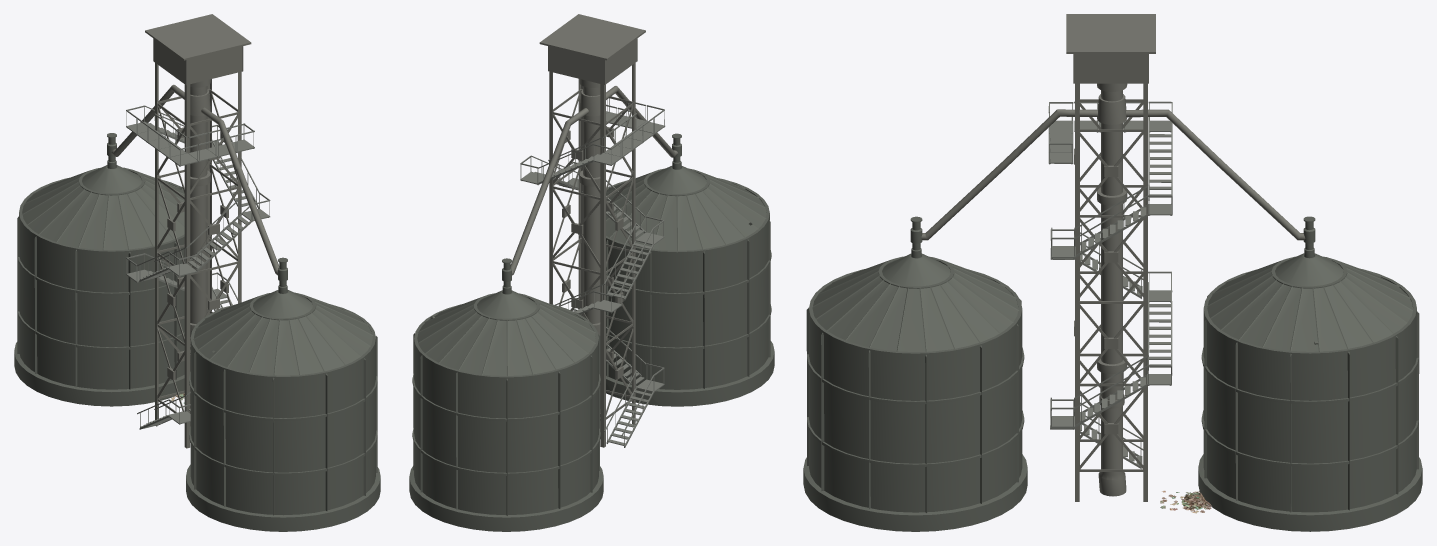
Rendered from grain_bin.glb.
3 renders of one model, left to right at view 1: azimuth 30°, elevation 25°; view 2: azimuth 150°, elevation 25°; view 3: azimuth 270°, elevation 25°, orthographic. The views are drawn at different scales.
Parts seen in each view (by area): view 1: body, bin_mesh; view 2: body, bin_mesh; view 3: body, bin_mesh.
Boxes of the visible parts, x1=… form: body: x1=14, y1=14, x2=270, y2=448; bin_mesh: x1=186, y1=167, x2=380, y2=531; body: x1=409, y1=14, x2=665, y2=531; bin_mesh: x1=606, y1=108, x2=774, y2=406; body: x1=1015, y1=14, x2=1422, y2=531; bin_mesh: x1=803, y1=149, x2=1027, y2=531.
Bounding box in the file's own units: 4.89 × 11 × 13.47.
4 materials, 1 textured.
